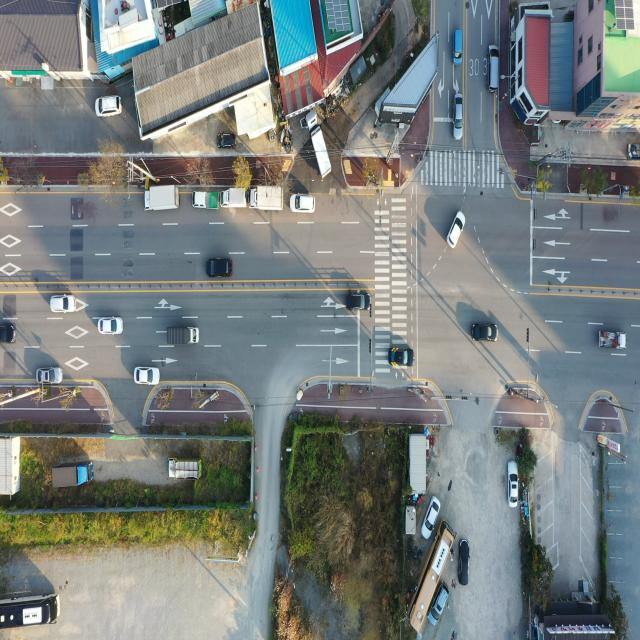car: (419, 495, 441, 541), (428, 580, 449, 625), (486, 43, 501, 93), (96, 95, 123, 118), (449, 211, 465, 248), (457, 538, 470, 582), (206, 260, 232, 280), (473, 322, 497, 343), (135, 365, 160, 385), (346, 291, 371, 311), (452, 94, 463, 138), (389, 348, 413, 368), (292, 192, 316, 212), (51, 293, 76, 312), (452, 29, 465, 65), (509, 463, 519, 508), (36, 366, 62, 383), (215, 133, 237, 152), (99, 317, 122, 335), (0, 322, 17, 343)
large_bus: (408, 520, 456, 631), (0, 584, 62, 632)
medium_truck: (305, 109, 330, 179), (49, 458, 94, 493), (145, 183, 181, 212), (248, 188, 286, 210)
small_truck: (168, 456, 204, 478), (167, 324, 198, 348), (599, 331, 628, 352), (221, 186, 249, 207), (193, 190, 219, 210)
